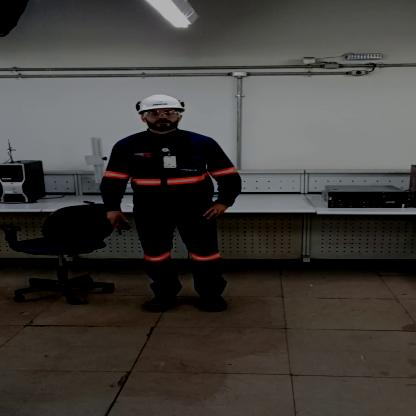Capacete: (130, 94, 184, 111)
